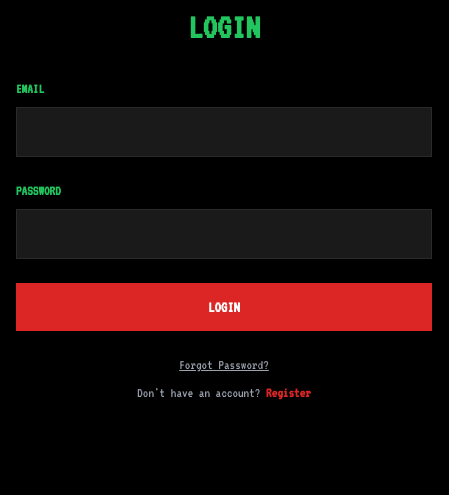
Scenario: LoginPage › shows error for invalid email
Type "test@example" into the field labelled "EMAIL". click: {"x": 224, "y": 132}
box: [16,107,432,157]
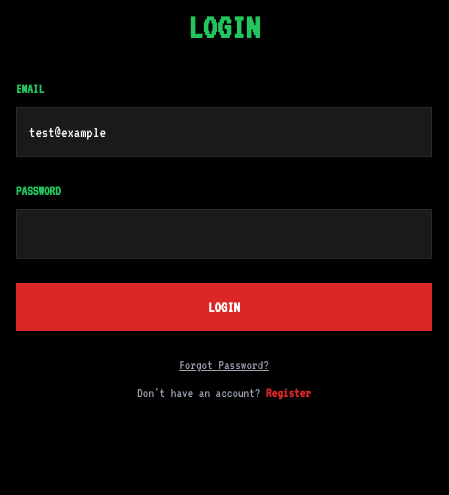
Type "ValidPass1!" into the password field labelled "PASSWORD". click: {"x": 224, "y": 234}
box: [16,209,432,259]
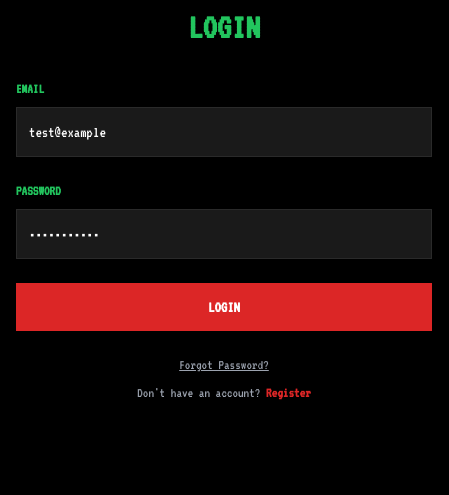
Click the button "LOGIN". click: {"x": 224, "y": 307}
box: [16,283,432,331]
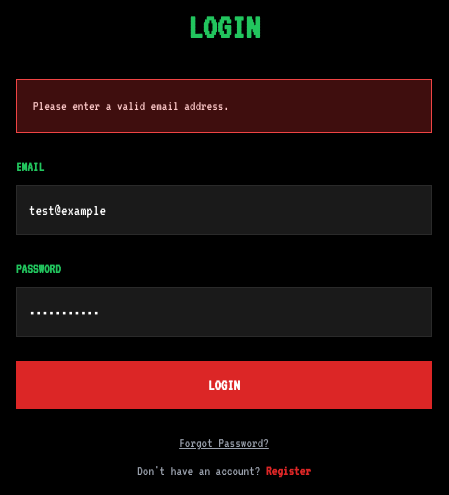
Result: the text "Please enter a valid email address." is shown at [16,79,432,133]
